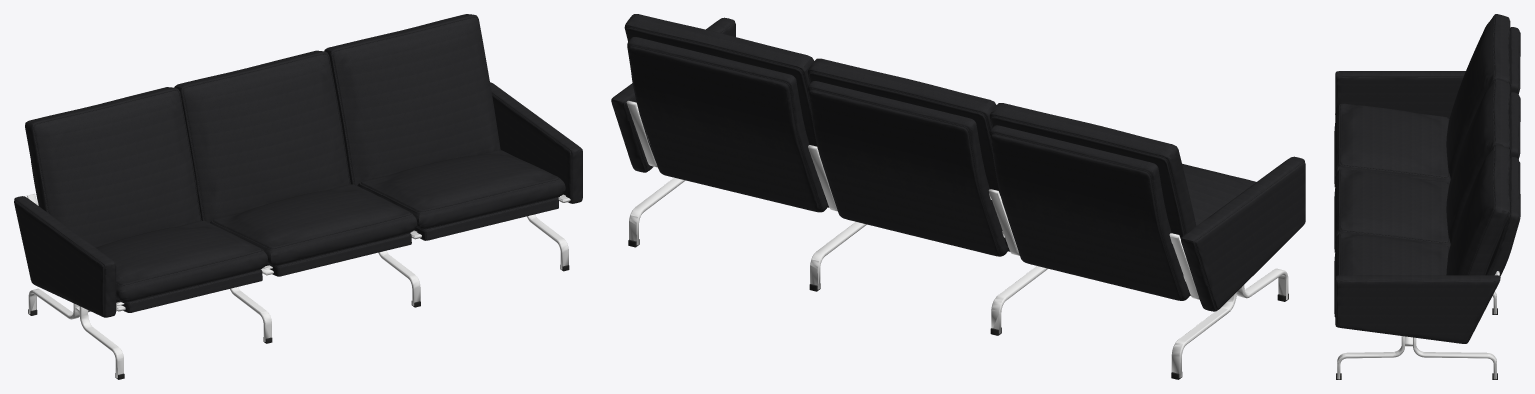
File: chair.glb
3 views of the same model, side by side, from view 1: azimuth 30°, elevation 25°; view 2: azimuth 150°, elevation 25°; view 3: azimuth 270°, elevation 25° (orthographic). The views are drawn at different scales.
Parts seen in each view (by area): view 1: hans_fri_d3_pk31_seat_l, hans_fri_d3_pk31_seat_l.001, hans_fri_d3_pk31_seat_c, hans_fri_d3_pk31_frame_l, hans_fri_d3_pk31_frame_r.001, hans_fri_d3_pk31_frame_r; view 2: hans_fri_d3_pk31_seat_l, hans_fri_d3_pk31_seat_l.001, hans_fri_d3_pk31_seat_c, hans_fri_d3_pk31_frame_l, hans_fri_d3_pk31_frame_r.001, hans_fri_d3_pk31_frame_r; view 3: hans_fri_d3_pk31_seat_l.001, hans_fri_d3_pk31_seat_l, hans_fri_d3_pk31_seat_c, hans_fri_d3_pk31_frame_r.001.
Part boxes in pixels (bbox=[...]): hans_fri_d3_pk31_seat_l: bbox=[14, 87, 267, 317]; hans_fri_d3_pk31_seat_l.001: bbox=[324, 14, 582, 240]; hans_fri_d3_pk31_seat_c: bbox=[174, 50, 417, 276]; hans_fri_d3_pk31_frame_l: bbox=[27, 193, 273, 378]; hans_fri_d3_pk31_frame_r.001: bbox=[527, 194, 570, 269]; hans_fri_d3_pk31_frame_r: bbox=[378, 230, 421, 305]; hans_fri_d3_pk31_seat_l: bbox=[989, 103, 1305, 311]; hans_fri_d3_pk31_seat_l.001: bbox=[611, 14, 828, 212]; hans_fri_d3_pk31_seat_c: bbox=[807, 58, 1009, 256]; hans_fri_d3_pk31_frame_l: bbox=[988, 189, 1288, 377]; hans_fri_d3_pk31_frame_r.001: bbox=[626, 100, 685, 245]; hans_fri_d3_pk31_frame_r: bbox=[808, 145, 866, 289]; hans_fri_d3_pk31_seat_l.001: bbox=[1334, 145, 1520, 343]; hans_fri_d3_pk31_seat_l: bbox=[1334, 14, 1520, 186]; hans_fri_d3_pk31_seat_c: bbox=[1334, 79, 1520, 252]; hans_fri_d3_pk31_frame_r.001: bbox=[1337, 271, 1499, 379].
Bounding box in the file's own units: 2.52 × 0.9571 × 0.9443.
3 materials, 2 textured.
